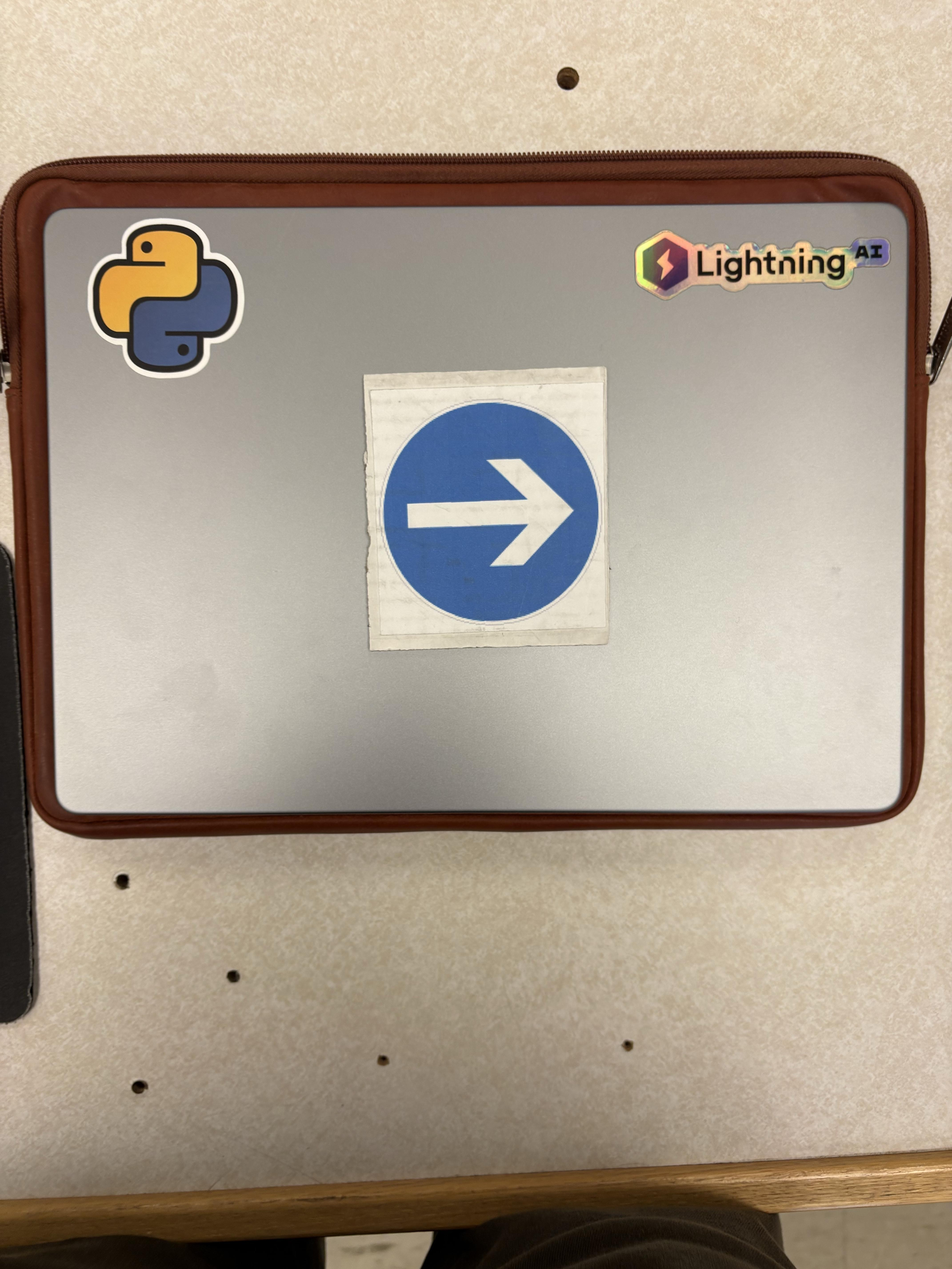Proceed Right: (272, 498, 455, 860)
